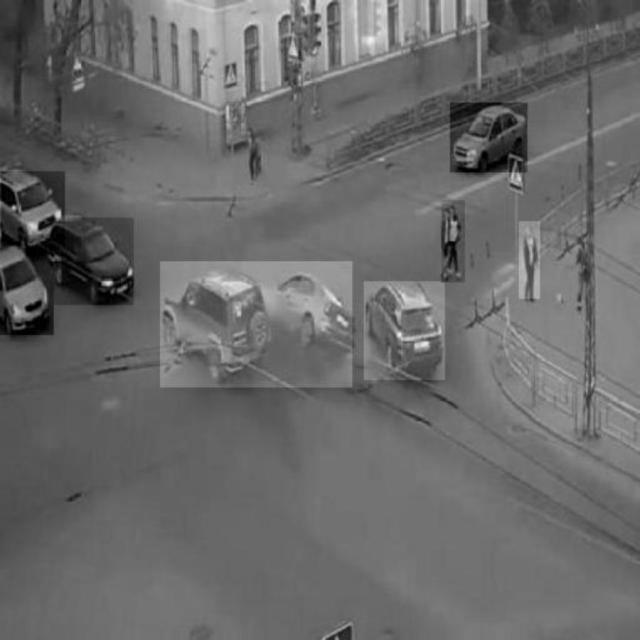accident: (160, 262, 352, 388)
person: (441, 200, 465, 282), (519, 222, 539, 299)
vehicle: (364, 282, 445, 380), (44, 217, 134, 305), (450, 103, 527, 173), (2, 172, 66, 249), (0, 249, 54, 335)
